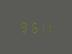nine: (18, 19, 25, 33)
one: (34, 19, 41, 34), (42, 20, 49, 34)
six: (26, 19, 33, 33)
